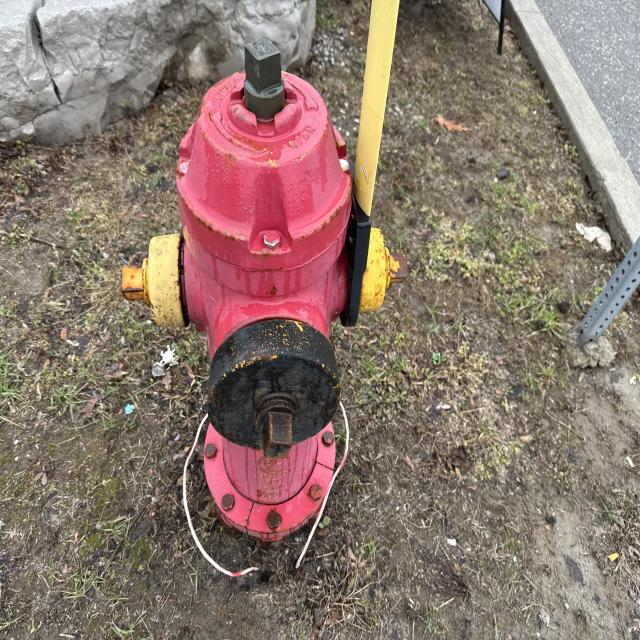Fire hydrant: (120, 36, 408, 547)
